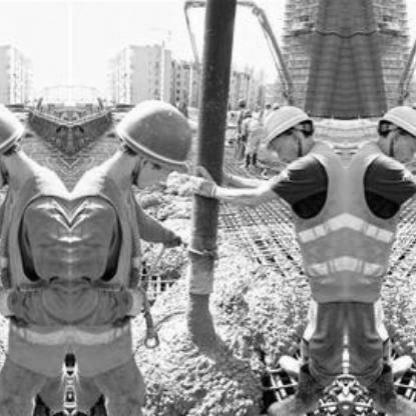helmet: (107, 89, 200, 189), (260, 100, 321, 163), (0, 89, 34, 190), (370, 99, 414, 163)
